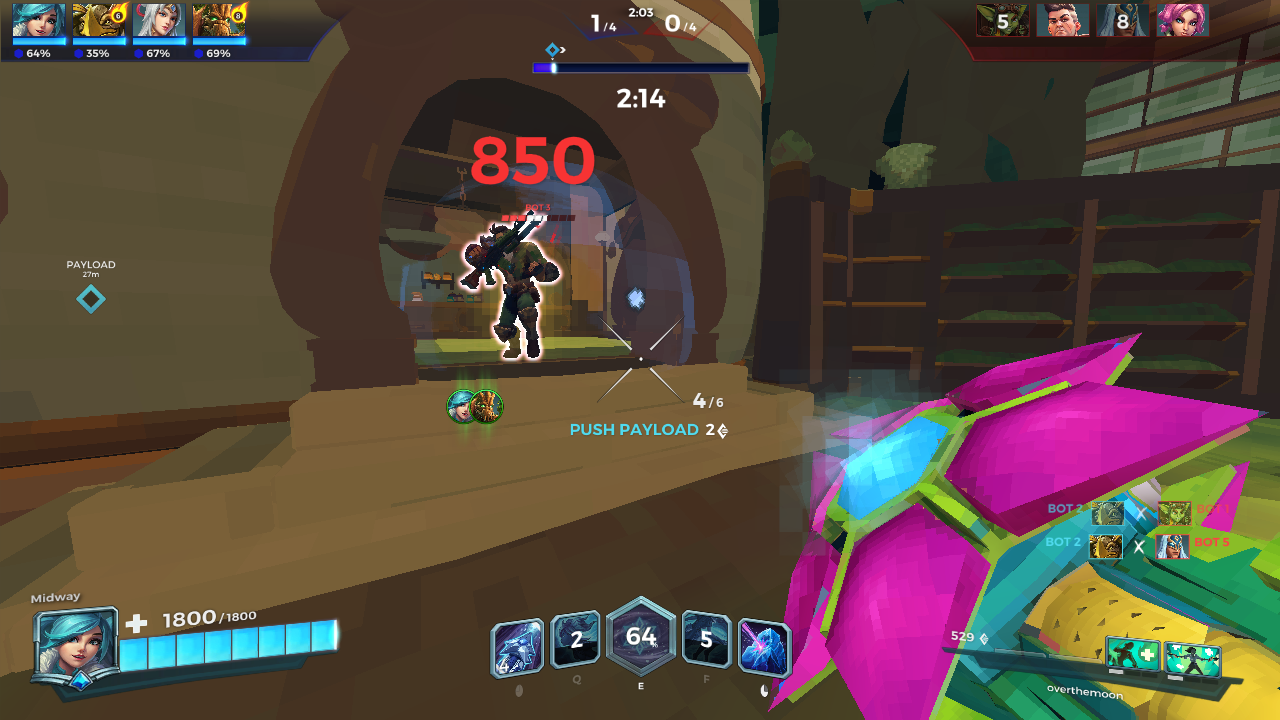model: (457, 214, 557, 370)
